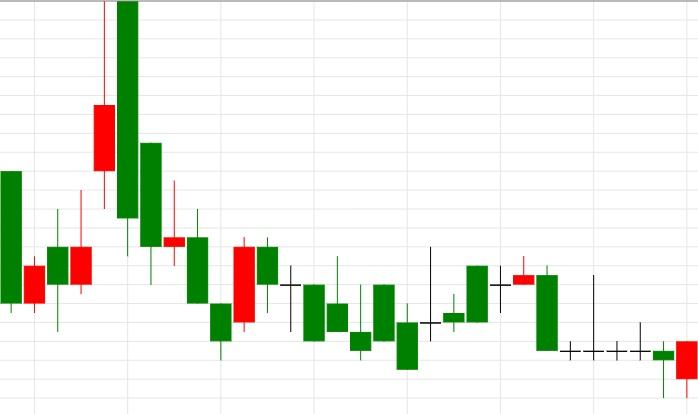bearish_engulfing_fall: (0, 0, 139, 333)
bullish_engulfing_rise: (512, 256, 698, 397)
inverse_hammer_rise: (233, 237, 372, 361)
